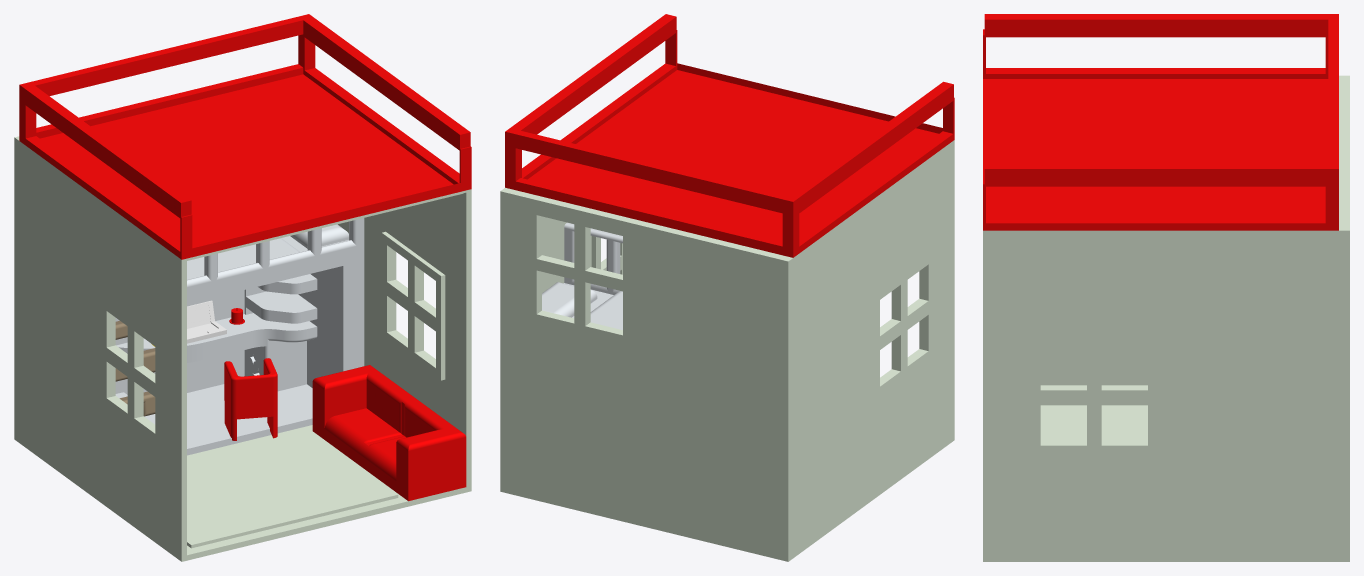
Rendered from Assembly.gltf.
The picture shows the model from 3 angles, left to right: view 1: azimuth 30°, elevation 25°; view 2: azimuth 150°, elevation 25°; view 3: azimuth 270°, elevation 25°; orthographic projection. The views are drawn at different scales.
Parts seen in each view (by area): view 1: Part 1 (×10), Part 2; view 2: Part 1 (×7); view 3: Part 1 (×6).
Boxes of the visible parts, bbox=[...] form: Part 1 (×10): bbox=[14, 14, 471, 561]; Part 2: bbox=[115, 320, 155, 416]; Part 1 (×7): bbox=[500, 14, 954, 561]; Part 1 (×6): bbox=[983, 14, 1349, 561].
Bounding box in the file's own units: 0.14 × 0.1655 × 0.14.
